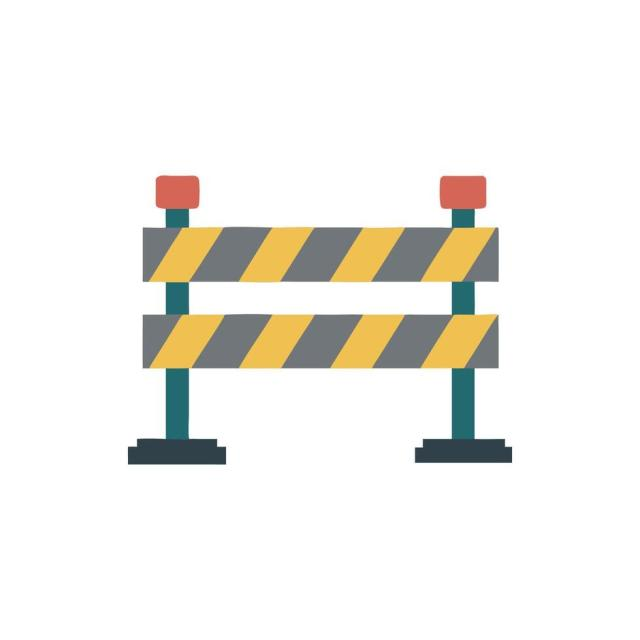cone: (127, 172, 512, 465)
